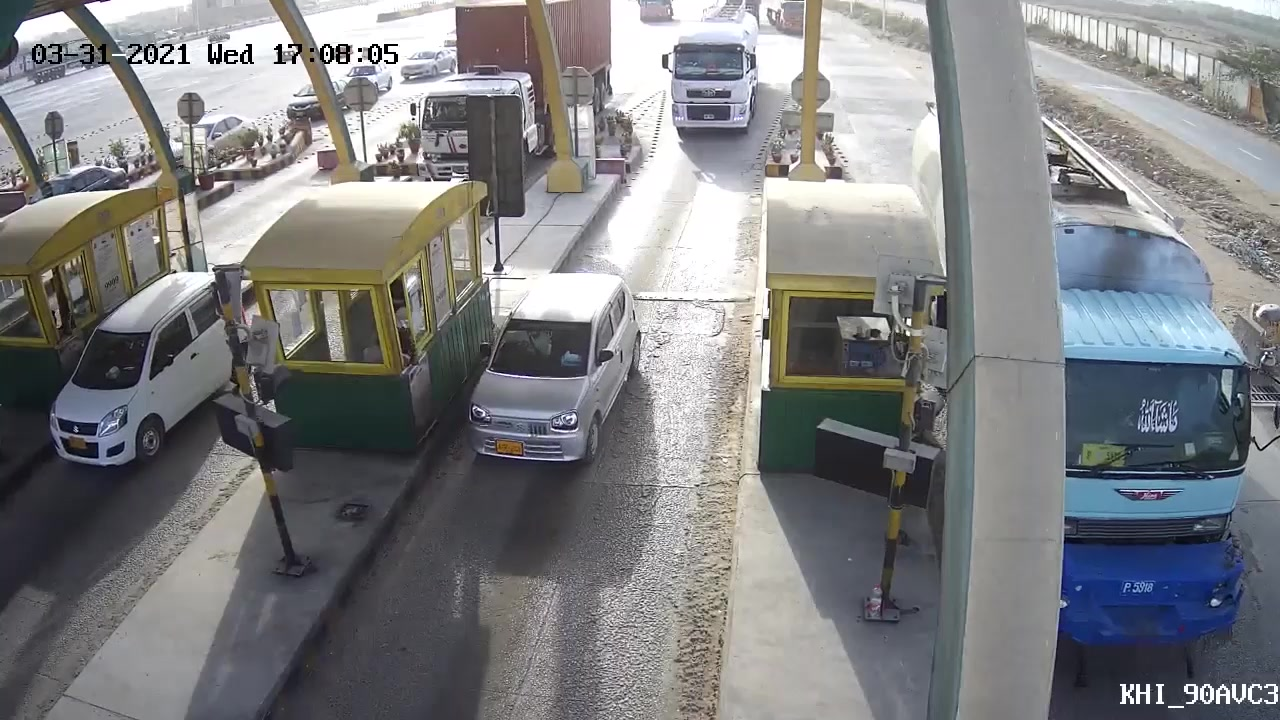F1: (442, 265, 643, 475)
